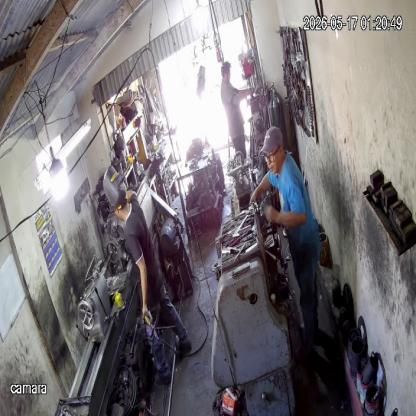lentes: (262, 145, 282, 167)
